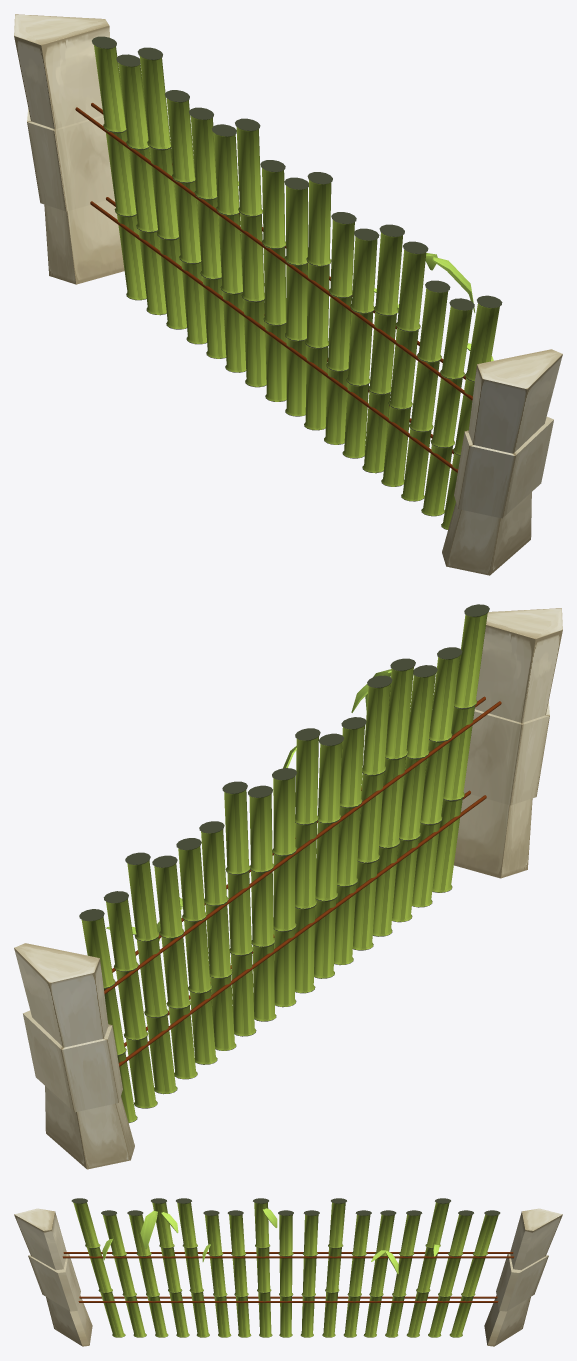
Rendered from bouncy_wall_state5.FBX.
3 renders of one model, top to bottom at view 1: azimuth 30°, elevation 25°; view 2: azimuth 150°, elevation 25°; view 3: azimuth 270°, elevation 25°, orthographic. The views are drawn at different scales.
Parts seen in each view (by area): view 1: Cylinder016, Box104; view 2: Cylinder016, Box104; view 3: Cylinder016, Box104, Box105.
Part boxes in pixels (left/top/right/bottom): Cylinder016: left=75, top=36, right=502, bottom=529; Box104: left=14, top=14, right=562, bottom=575; Cylinder016: left=79, top=604, right=501, bottom=1122; Box104: left=14, top=608, right=562, bottom=1169; Cylinder016: left=62, top=1198, right=514, bottom=1337; Box104: left=14, top=1208, right=562, bottom=1346; Box105: left=140, top=1211, right=157, bottom=1249.
Bounding box in the file's own units: 0.2304 × 0.5802 × 2.15.
Materials: 8 (7 with a texture image).
